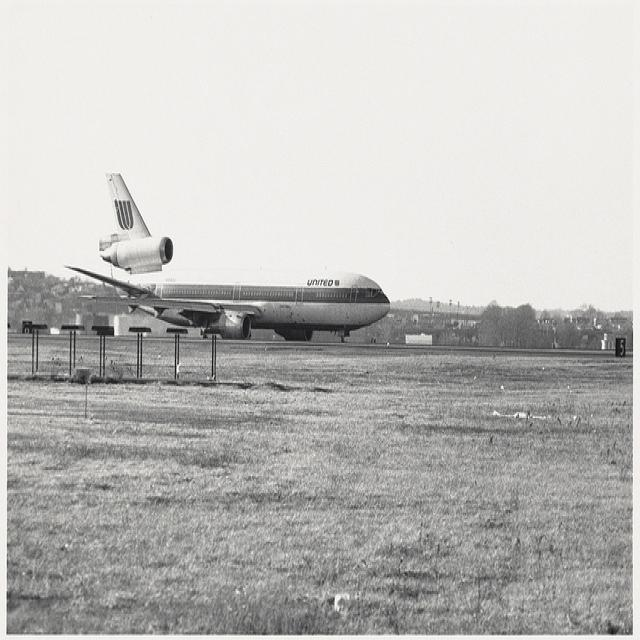airplane: (62, 167, 393, 348)
